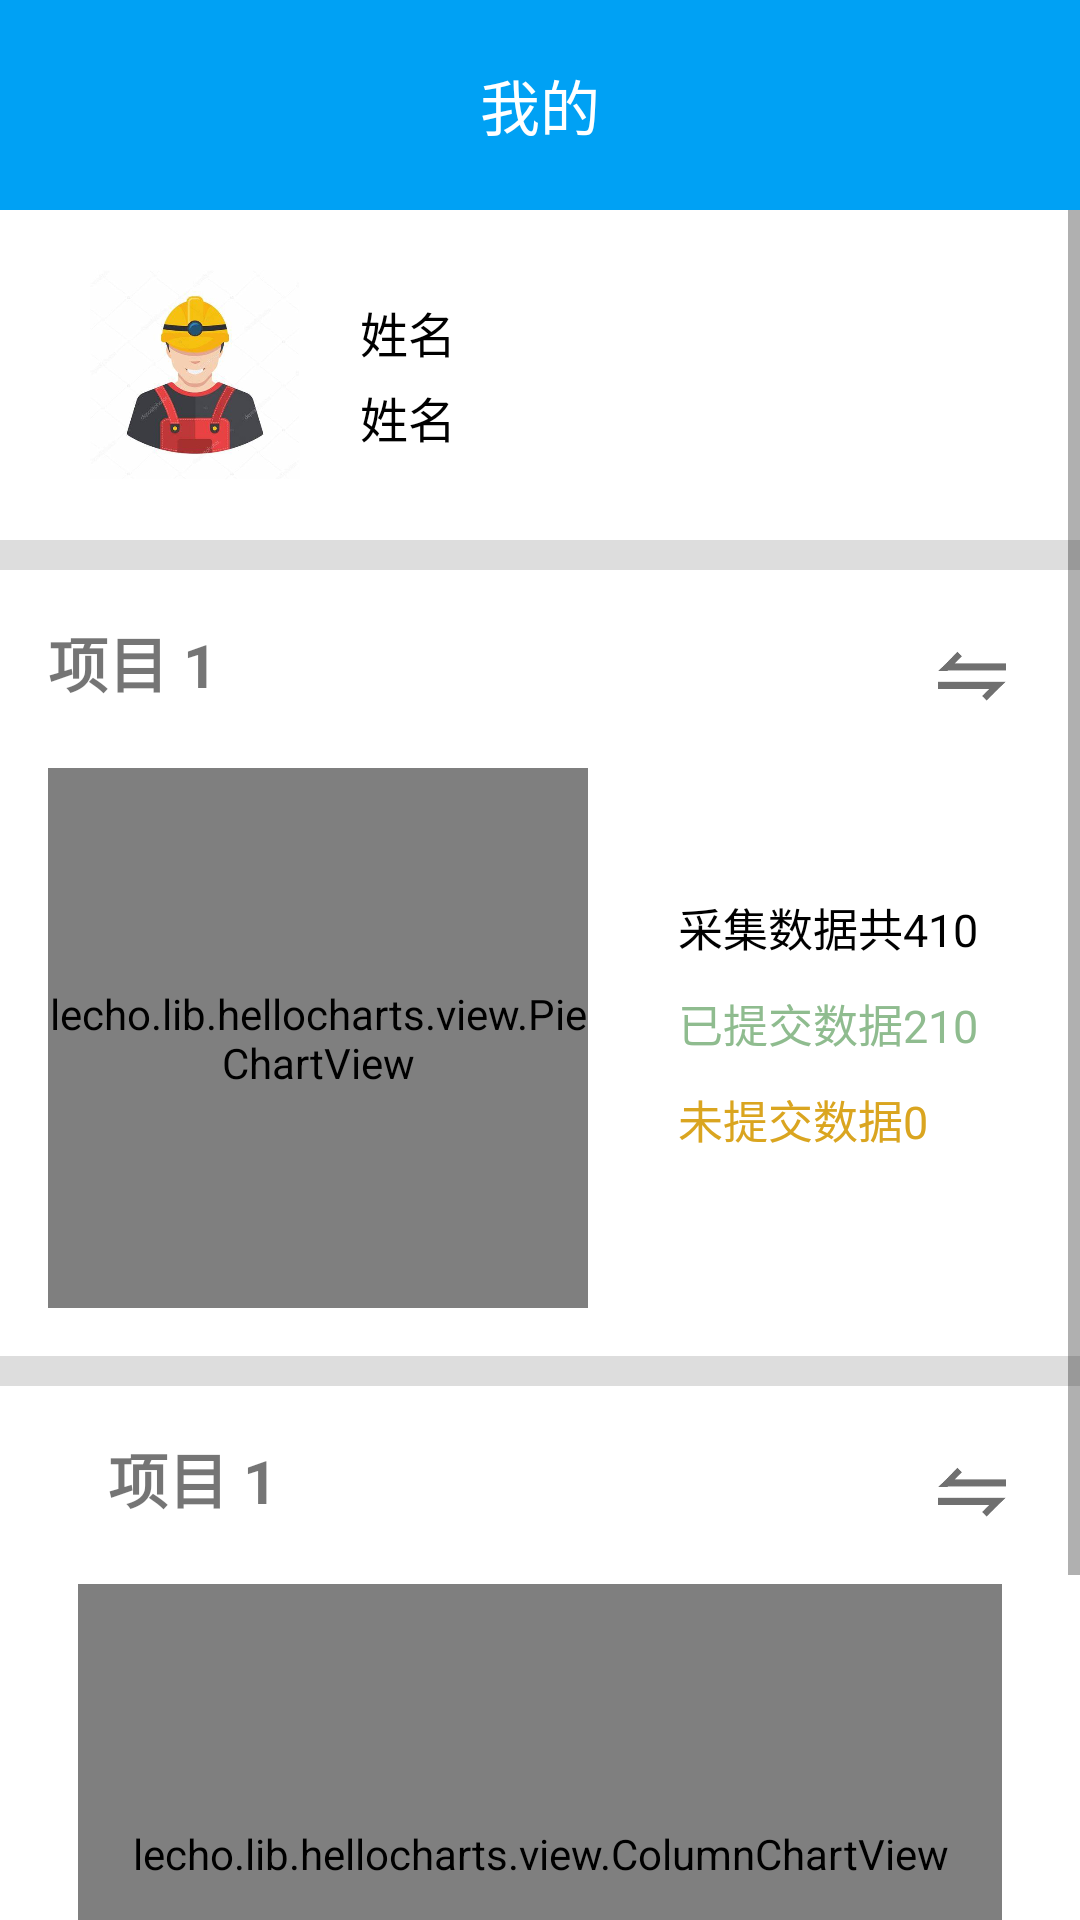

Where icons sit on this 1080×1920 app screen, as Rect(x1, y1, x2, y2):
project switch: Rect(938, 652, 1006, 701), Rect(938, 1468, 1006, 1517)
user: Rect(127, 291, 263, 454)
